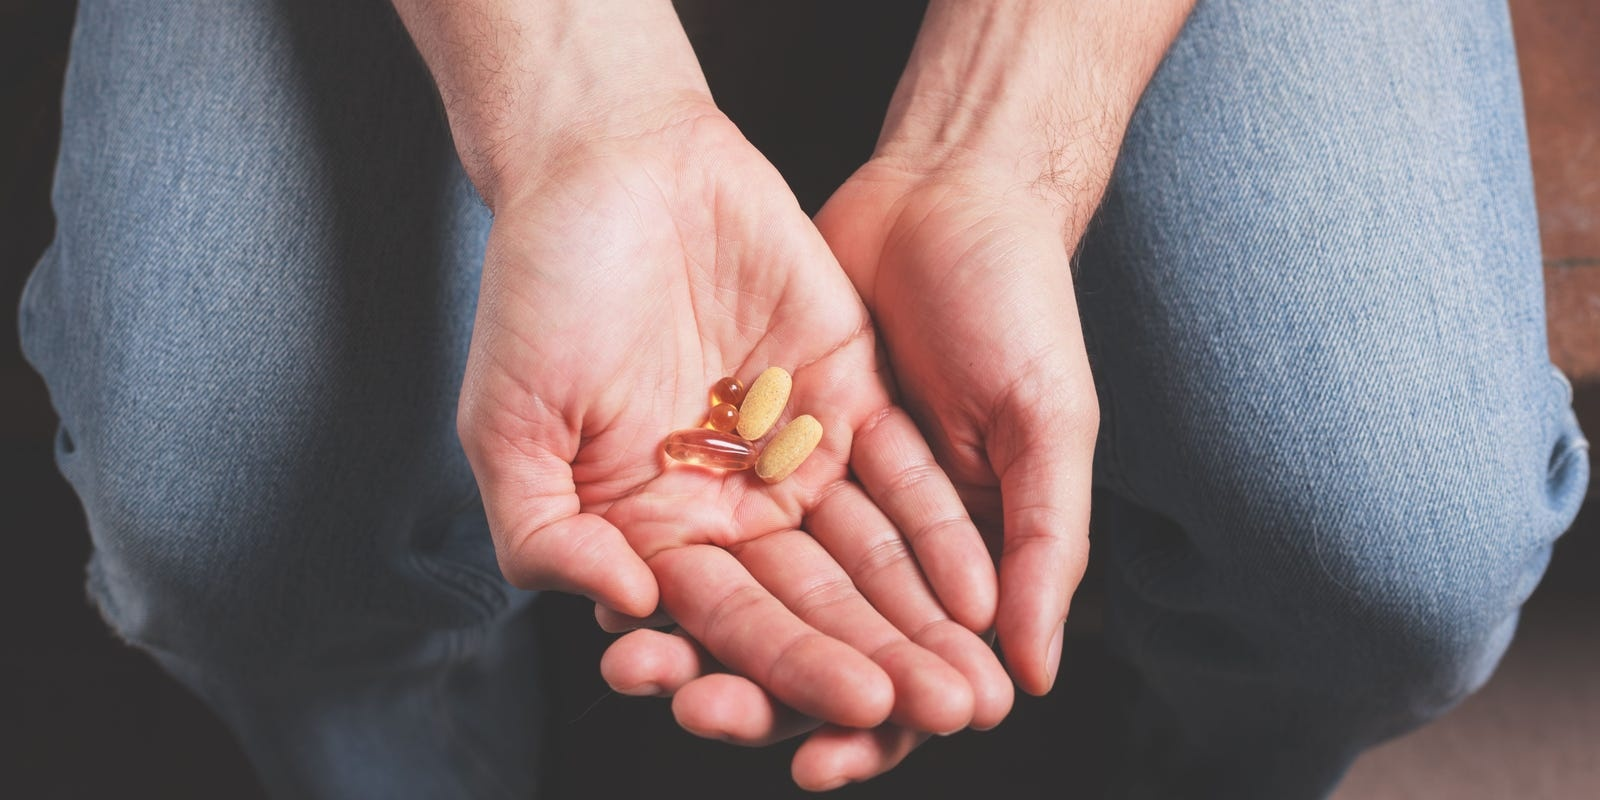pills: (751, 413, 824, 480), (662, 432, 755, 476), (740, 368, 794, 435)
